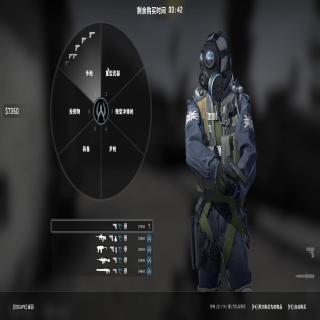CT-Body: (186, 34, 256, 291)
CT-Head: (199, 34, 229, 92)
